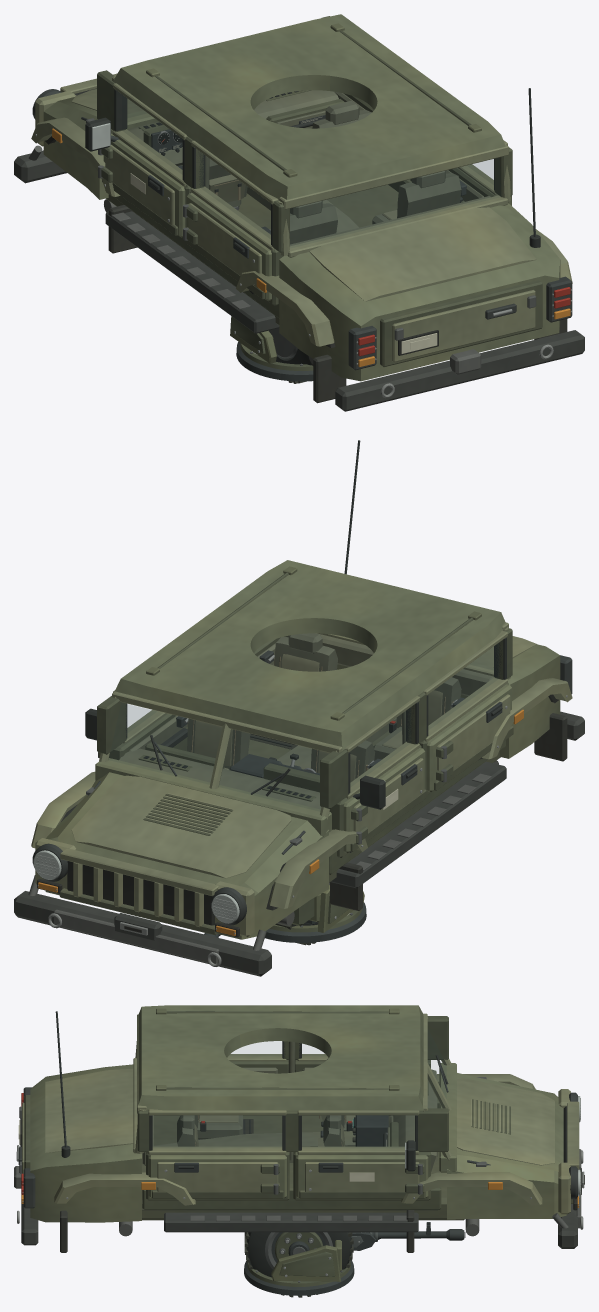
Rendered from humvee-high.glb.
3 renders of one model, top to bottom at view 1: azimuth 30°, elevation 25°; view 2: azimuth 150°, elevation 25°; view 3: azimuth 270°, elevation 25°, orthographic. The views are drawn at different scales.
Parts seen in each view (by area): view 1: BodyPaint, Chassis, Cabin, ExteriorDetail, Turret, CabinDetail, Wheel; view 2: BodyPaint, Chassis, Cabin, ExteriorDetail, Turret, CabinDetail; view 3: BodyPaint, Cabin, Chassis, ExteriorDetail, Turret, Wheel, GunVisual, CabinDetail.
Part boxes in pixels (box(x1,y1,x2,y2)): BodyPaint: box(31, 14, 572, 381); Chassis: box(14, 88, 584, 411); Cabin: box(105, 90, 490, 317); ExteriorDetail: box(28, 23, 572, 397); Turret: box(230, 316, 313, 381); CabinDetail: box(138, 90, 466, 234); Wheel: box(269, 328, 313, 383); BodyPaint: box(31, 560, 572, 939); Chassis: box(14, 440, 584, 976); Cabin: box(119, 633, 505, 874); ExteriorDetail: box(28, 566, 572, 966); Turret: box(265, 884, 366, 942); CabinDetail: box(138, 650, 465, 801); BodyPaint: box(22, 1005, 579, 1222); Cabin: box(142, 1058, 441, 1210); Chassis: box(14, 1011, 581, 1252); ExteriorDetail: box(16, 1008, 584, 1229); Turret: box(244, 1240, 354, 1295); Wheel: box(244, 1232, 353, 1297); GunVisual: box(351, 1222, 465, 1250); CabinDetail: box(195, 1041, 428, 1160).
Bounding box in the file's own units: 2.6 × 3.1 × 5.1.
2 materials, 1 textured.
